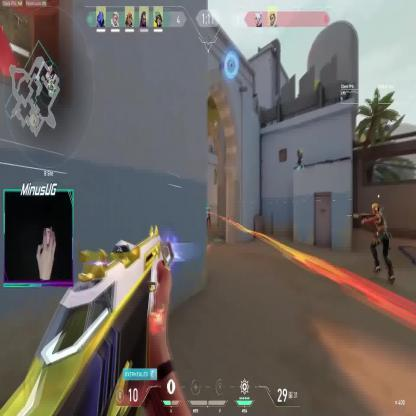enemy: (206, 205, 212, 228)
enemy_head: (208, 205, 210, 212)
